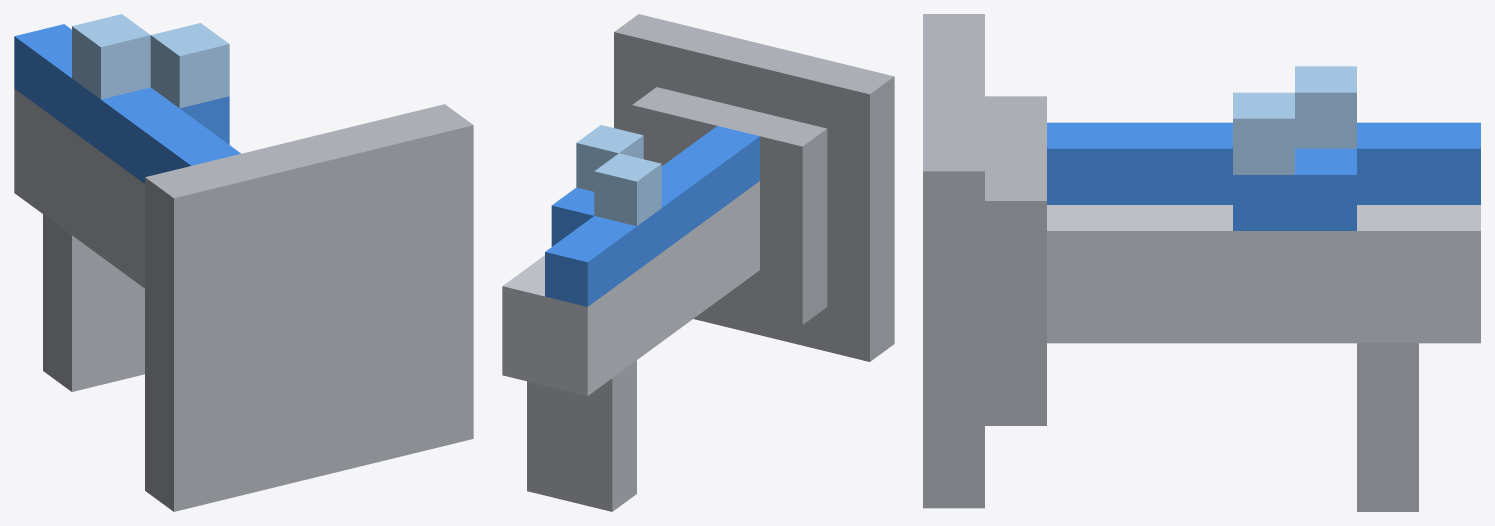
Rendered from american_raygun.obj.
3 renders of one model, left to right at view 1: azimuth 30°, elevation 25°; view 2: azimuth 150°, elevation 25°; view 3: azimuth 270°, elevation 25°, orthographic. The views are drawn at different scales.
Bounding box in the file's own units: 0.18 × 0.21 × 0.27.
